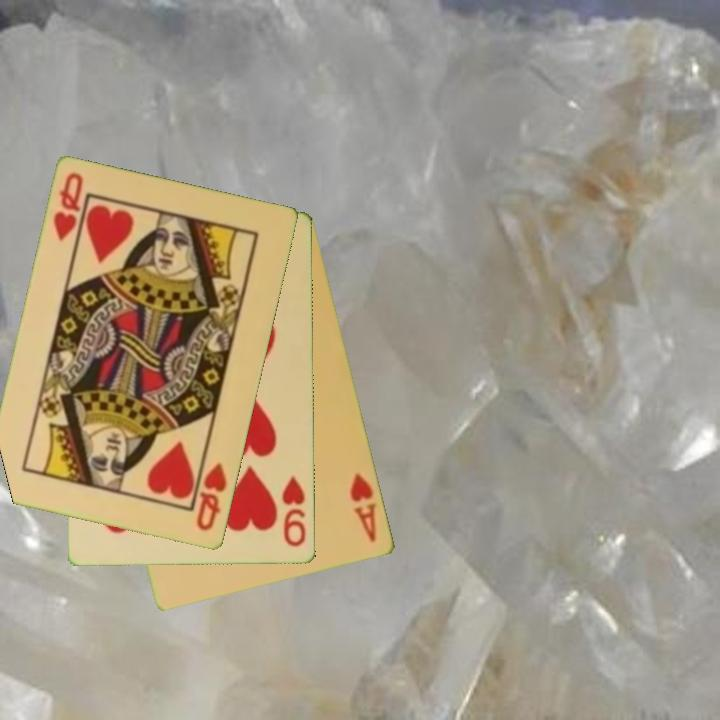9h: (279, 473, 309, 550)
Ah: (347, 469, 380, 546)
Qh: (50, 169, 87, 244), (193, 460, 230, 534)
